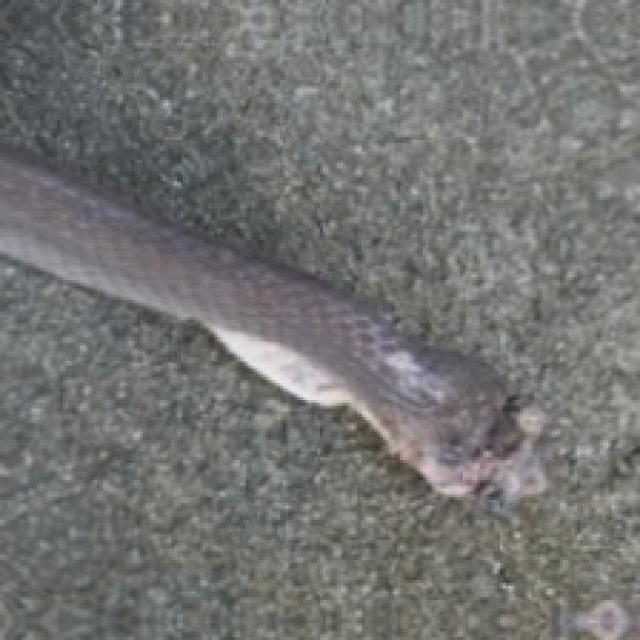reddish rat snake: (0, 149, 543, 509), (0, 154, 543, 509)
